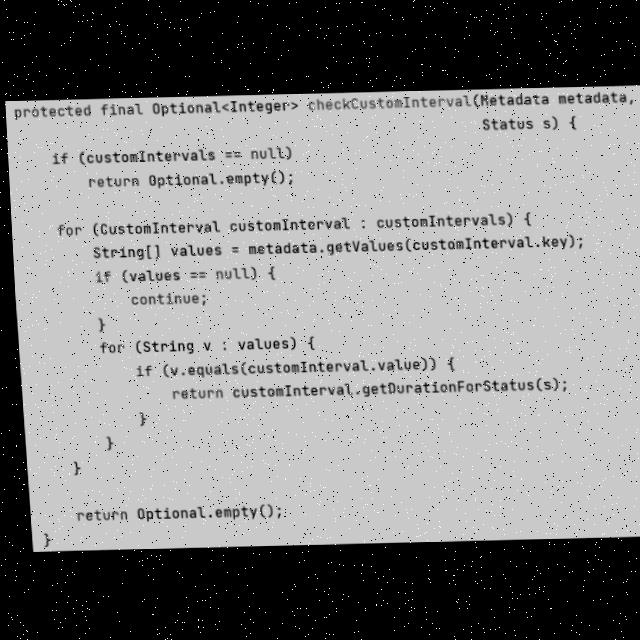code_screen: (5, 85, 640, 549)
